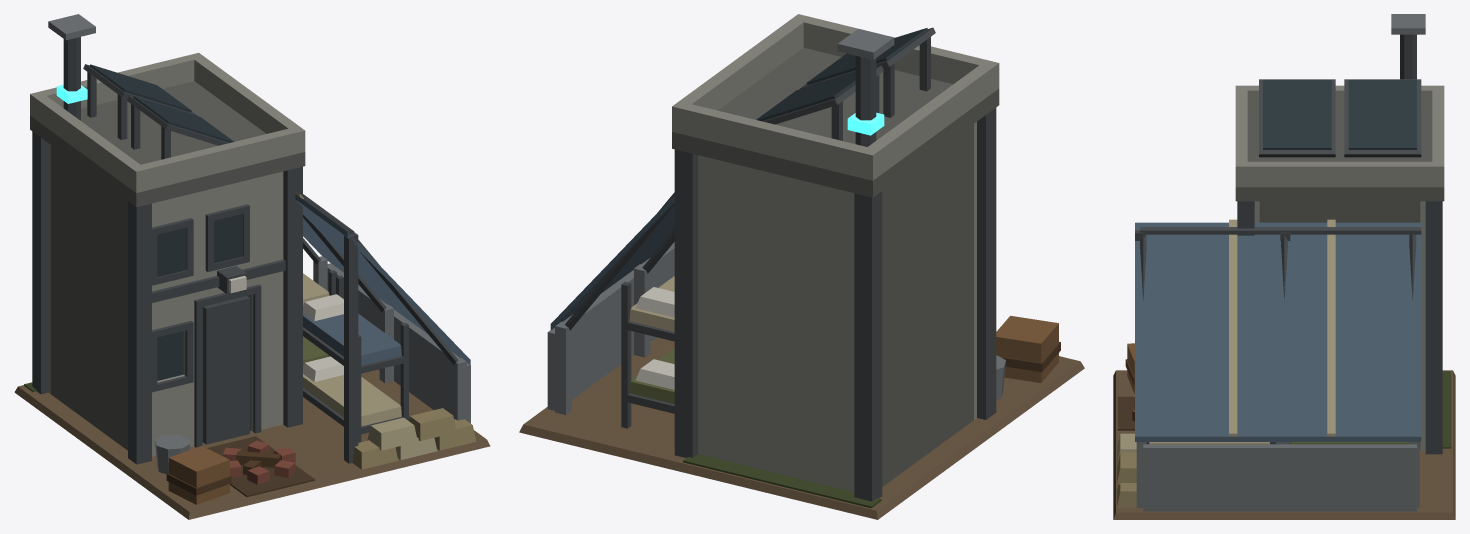
File: shelter_l3.glb
3 views of the same model, side by side, from view 1: azimuth 30°, elevation 25°; view 2: azimuth 150°, elevation 25°; view 3: azimuth 270°, elevation 25° (orthographic). The views are drawn at different scales.
Visible parts, largest first — view 1: shelter_structure, shelter_props, shelter_roof; view 2: shelter_structure, shelter_roof, shelter_props; view 3: shelter_roof, shelter_structure, shelter_props.
Part boxes in pixels (x1,y1,x2,y2): shelter_structure: (14,131,490,519); shelter_props: (48,14,476,504); shelter_roof: (30,52,470,364); shelter_structure: (519,108,1084,519); shelter_roof: (550,14,999,330); shelter_props: (621,27,1060,428); shelter_roof: (1135,85,1444,441); shelter_structure: (1113,201,1455,519); shelter_props: (1117,14,1425,507).
Size of the model in its own units: 4 by 4.78 by 4.
